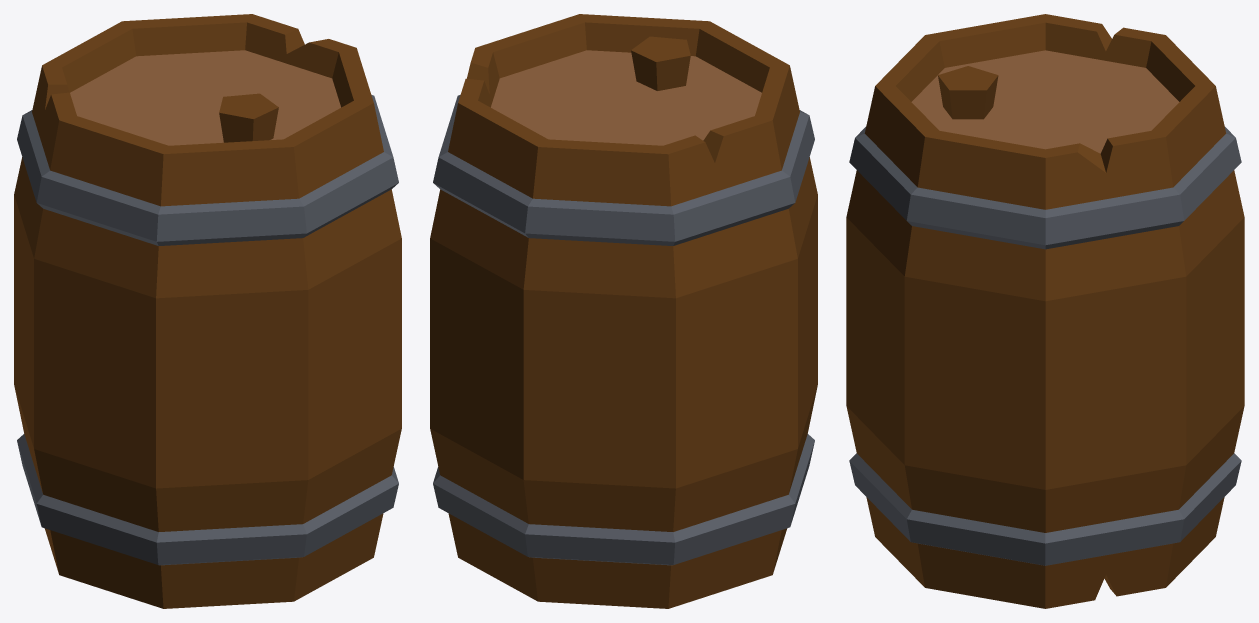
Rendered from SmallBarrel.fbx.
3 renders of one model, left to right at view 1: azimuth 30°, elevation 25°; view 2: azimuth 150°, elevation 25°; view 3: azimuth 270°, elevation 25°, orthographic.
Visible parts, largest first — view 1: SmallBarrel; view 2: SmallBarrel; view 3: SmallBarrel.
Part boxes in pixels (<box>): SmallBarrel: <box>14,14,401,608</box>; SmallBarrel: <box>430,14,817,608</box>; SmallBarrel: <box>846,14,1244,608</box>.
Bounding box in the file's own units: 44.06 × 55.88 × 44.06.
